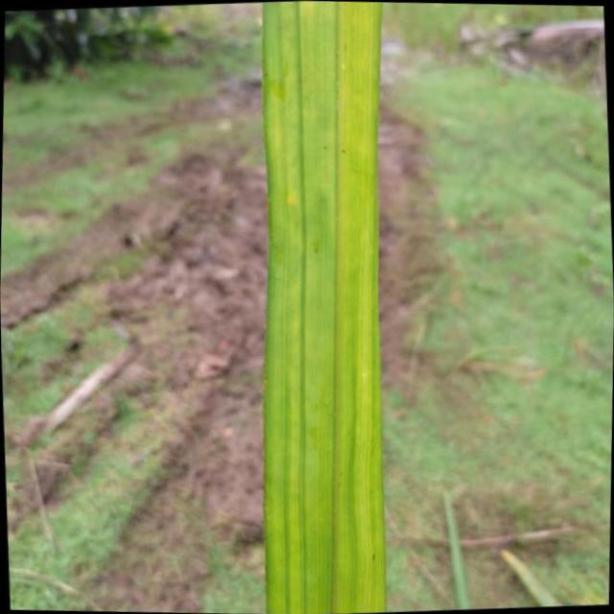nitrogen: (259, 0, 390, 614)
